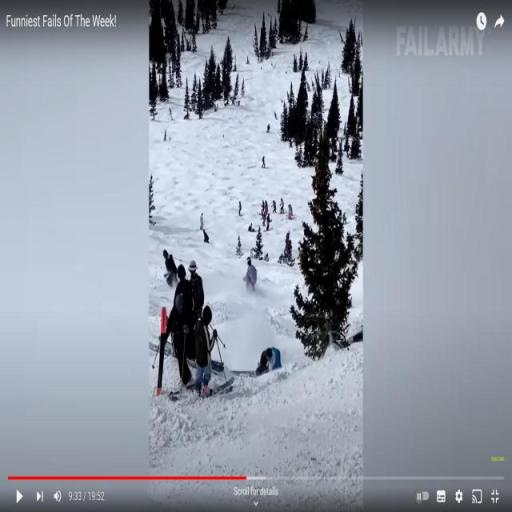Fall: (255, 342, 283, 376)
